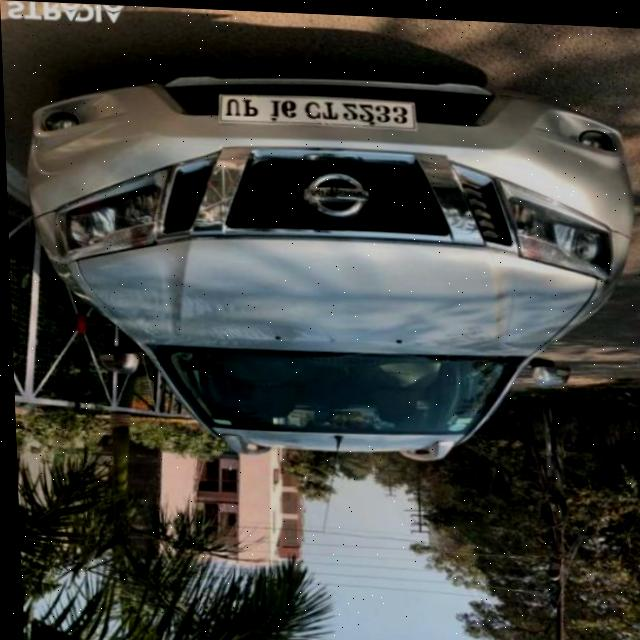plate: (215, 90, 417, 129)
